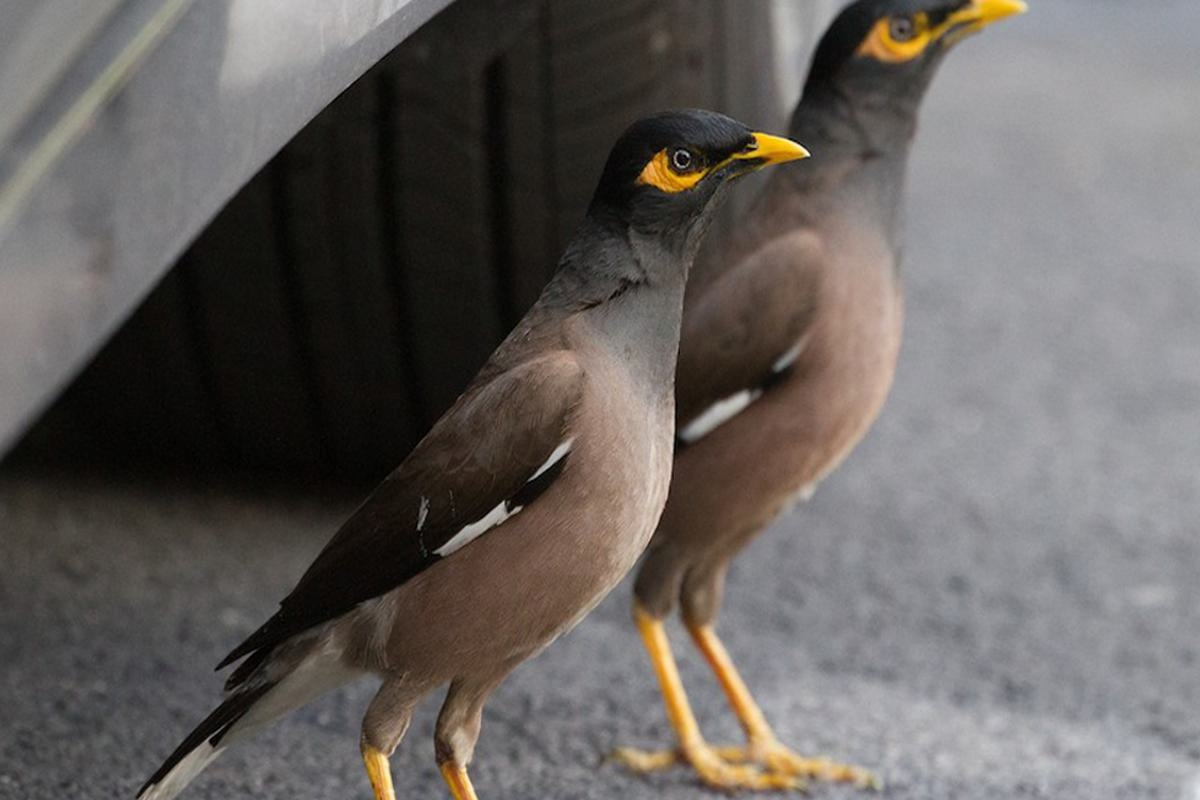myna: (213, 104, 804, 800)
